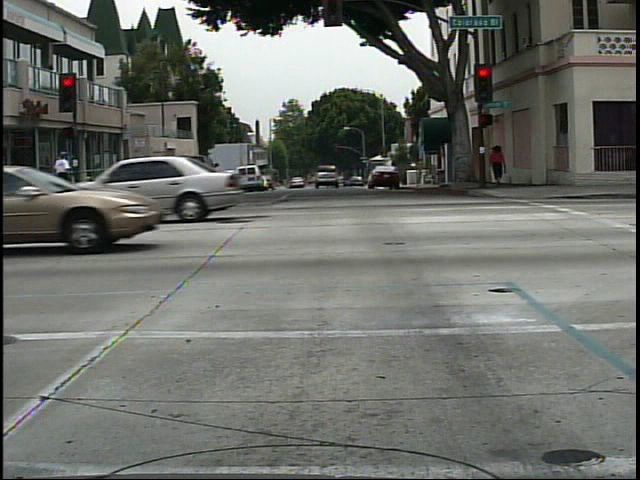person: (47, 143, 76, 190), (487, 139, 508, 188)
